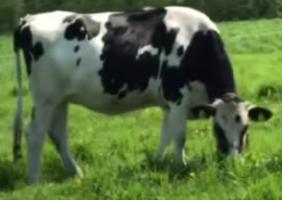cow: (13, 6, 273, 185)
